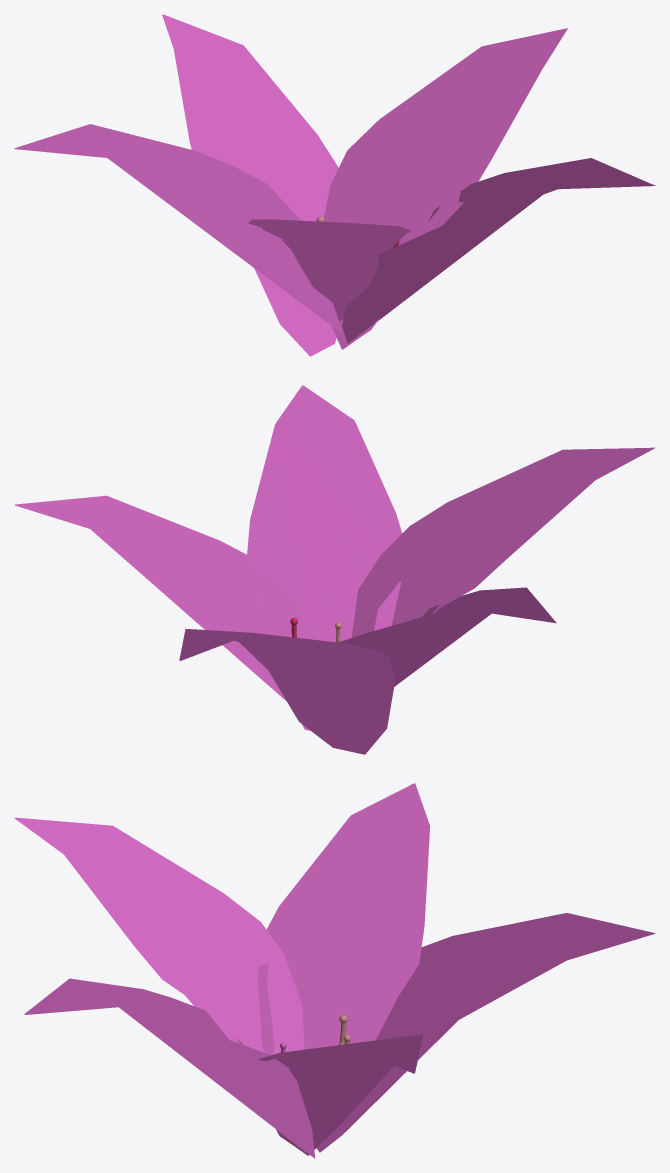
The model's file is flower.obj.
3 views of the same model, one above another, from view 1: azimuth 30°, elevation 25°; view 2: azimuth 150°, elevation 25°; view 3: azimuth 270°, elevation 25° (orthographic). The views are drawn at different scales.
Visible parts, largest first — view 1: Circle.002, Circle.001, Circle, Circle.003, Circle.004; view 2: Circle.003, Circle.004, Circle.002, Circle.001, Circle; view 3: Circle, Circle.004, Circle.001, Circle.003, Circle.002.
Part boxes in pixels (bbox=[...]): Circle.002: bbox=[324, 28, 567, 349]; Circle.001: bbox=[162, 14, 338, 356]; Circle: bbox=[14, 124, 343, 334]; Circle.003: bbox=[342, 158, 655, 343]; Circle.004: bbox=[248, 219, 410, 320]; Circle.003: bbox=[247, 385, 402, 730]; Circle.004: bbox=[351, 447, 654, 637]; Circle.002: bbox=[14, 495, 315, 701]; Circle.001: bbox=[179, 629, 395, 754]; Circle: bbox=[338, 587, 556, 686]; Circle: bbox=[258, 783, 429, 1055]; Circle.004: bbox=[14, 817, 304, 1054]; Circle.001: bbox=[316, 913, 655, 1152]; Circle.003: bbox=[24, 978, 315, 1158]; Circle.002: bbox=[259, 1033, 423, 1155].
Bounding box in the file's own units: 6.87 × 2.89 × 6.75.
